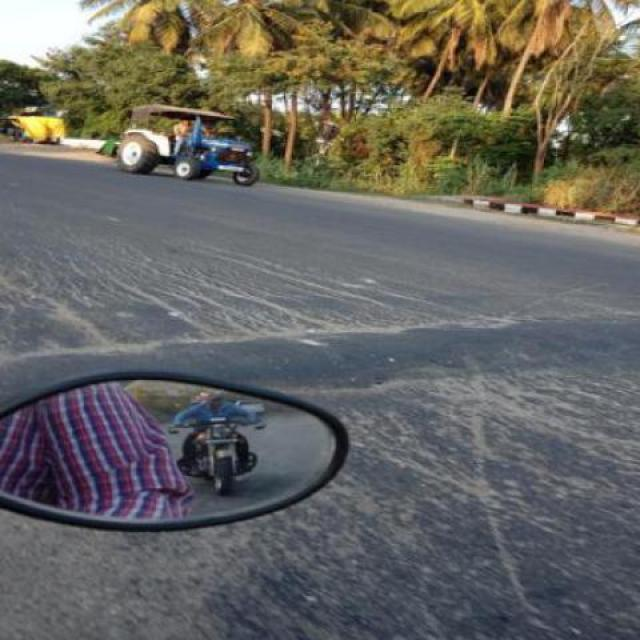Unmarked Bump: (0, 310, 639, 390)
